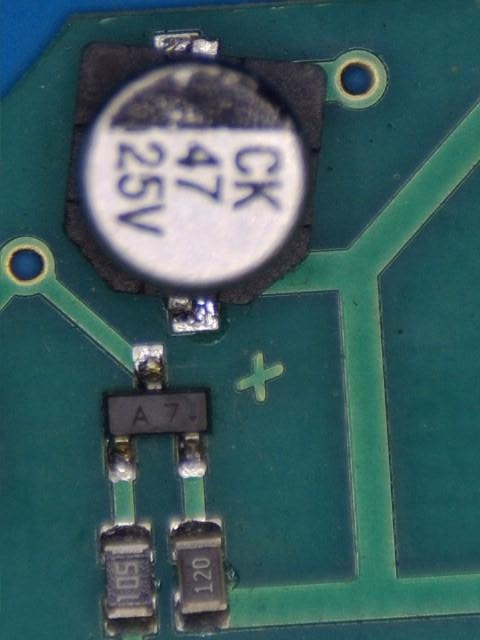pcb_defect: (64, 32, 328, 333)
